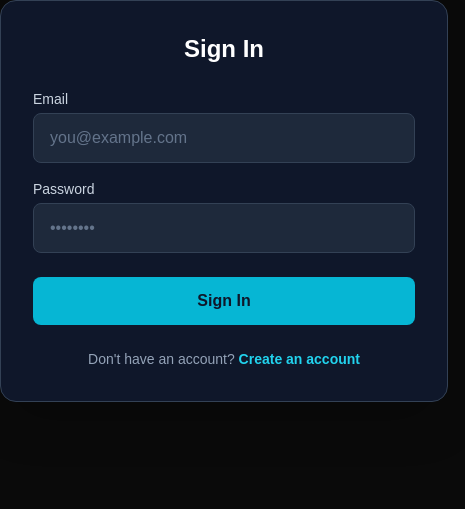
Test case: AuthForm › toggles to sign up mode and shows username field
Click the button "Create an account" at (299, 359), box [239, 349, 360, 369]
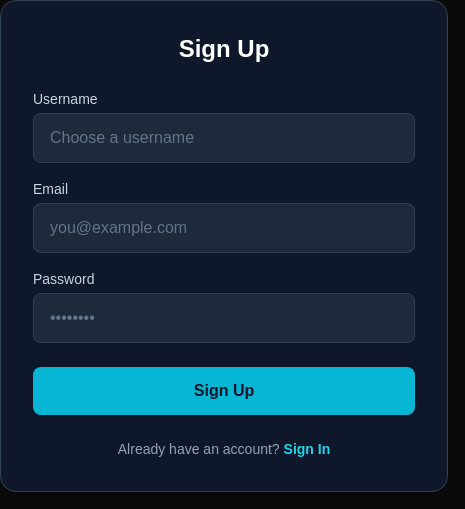
Expected: the heading "Sign Up" is shown, [179, 35, 269, 62]
Expected: the field labelled "Username" is shown, [33, 113, 415, 163]
Expected: the button "Sign Up" is shown, [33, 367, 415, 415]
